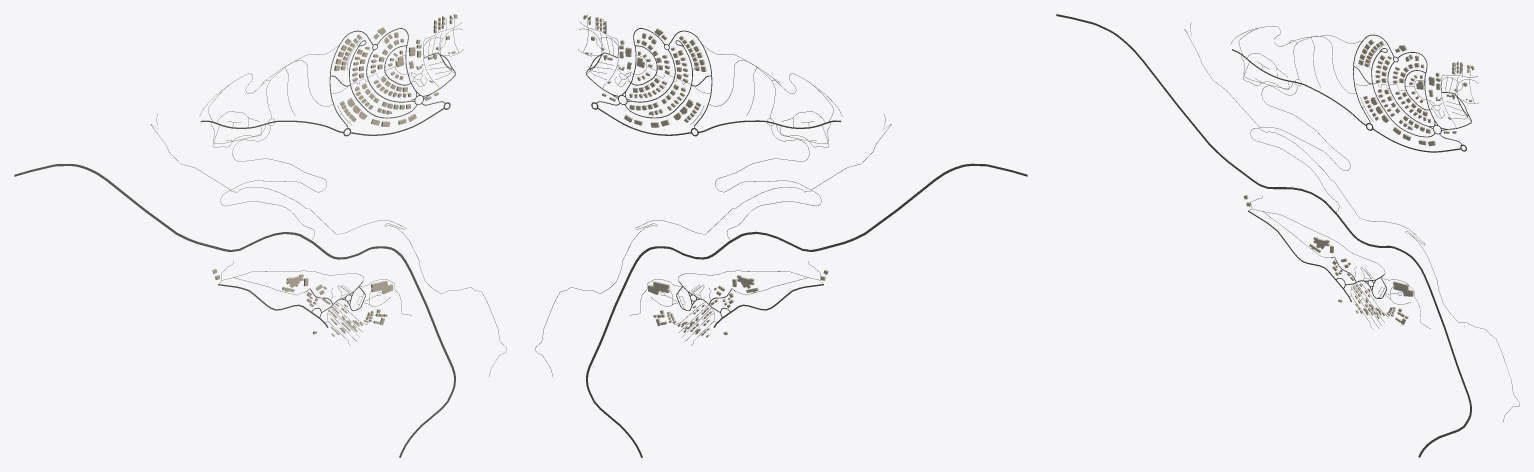
Rendered from historic-palestine-09_25_3513_3195.glb.
3 views of the same model, side by side, from view 1: azimuth 30°, elevation 25°; view 2: azimuth 150°, elevation 25°; view 3: azimuth 330°, elevation 25° (orthographic). The views are drawn at different scales.
Visible parts, largest first — view 1: Road 450, Road .003; view 2: Road 450, Road .003; view 3: Road 450, Road .003.
Boxes of the visible parts, <box> form: Road 450: <box>14,164,455,457</box>; Road .003: <box>150,114,506,376</box>; Road 450: <box>586,163,1027,457</box>; Road .003: <box>535,114,891,376</box>; Road 450: <box>1056,14,1471,457</box>; Road .003: <box>1184,22,1519,421</box>.
Bounding box in the file's own units: 1912 × 1625 × 8.7.
